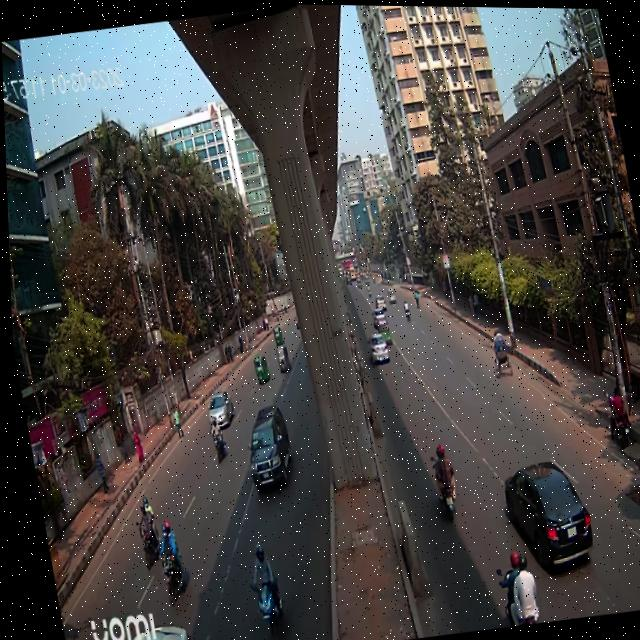cng: (250, 348, 270, 385), (270, 341, 290, 374)
